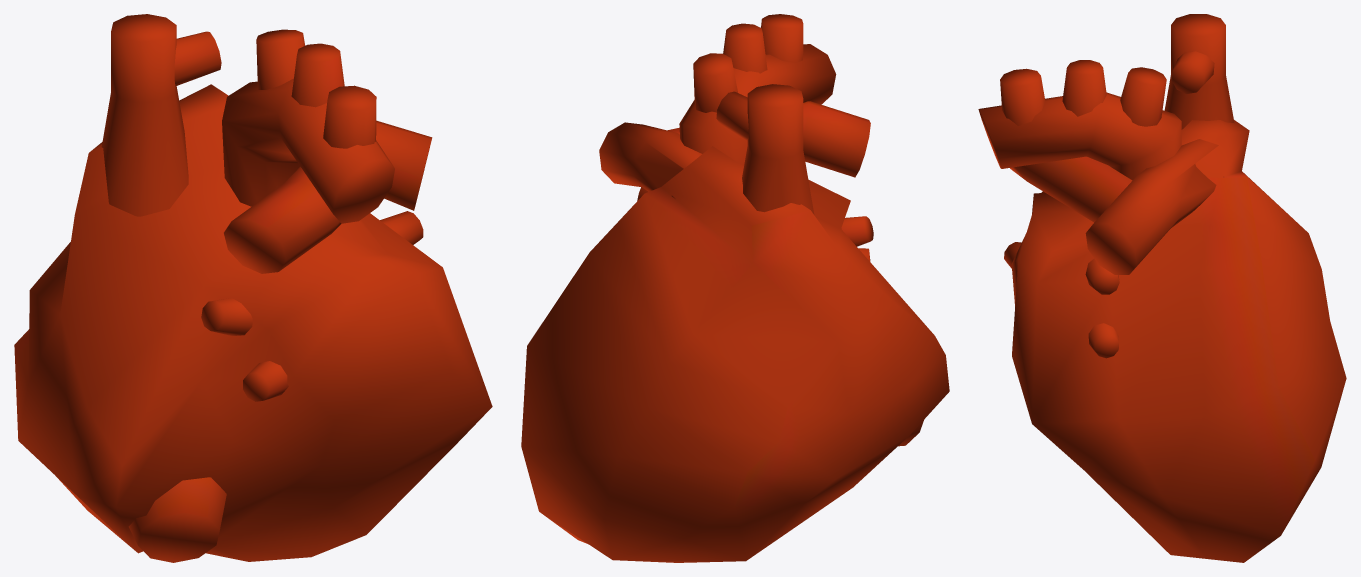
Rendered from Heart.glb.
3 views of the same model, side by side, from view 1: azimuth 30°, elevation 25°; view 2: azimuth 150°, elevation 25°; view 3: azimuth 270°, elevation 25° (orthographic). The views are drawn at different scales.
Parts seen in each view (by area): view 1: Cylinder.001; view 2: Cylinder.001; view 3: Cylinder.001.
Boxes of the visible parts, x1=… form: Cylinder.001: x1=14, y1=14, x2=492, y2=562; Cylinder.001: x1=521, y1=14, x2=949, y2=562; Cylinder.001: x1=978, y1=14, x2=1346, y2=562.
Bounding box in the file's own units: 3.13 × 4.55 × 3.28.
Materials: 1 (1 with a texture image).
